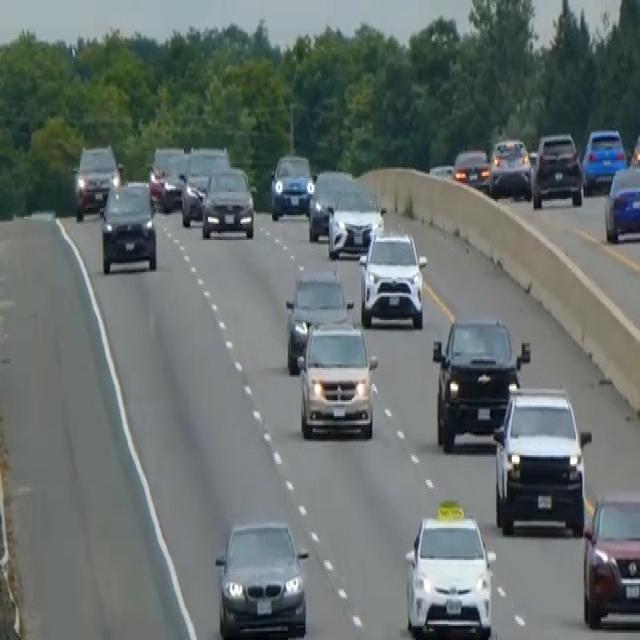car: (491, 382, 590, 535), (431, 311, 530, 452), (403, 498, 495, 638), (213, 516, 309, 638), (581, 489, 639, 629), (284, 267, 354, 373), (357, 226, 427, 329), (99, 178, 157, 274), (326, 180, 384, 260), (530, 130, 583, 208), (201, 164, 255, 240), (180, 146, 229, 226), (73, 140, 119, 218), (307, 167, 353, 242), (581, 124, 627, 192), (269, 151, 314, 219), (603, 160, 639, 244), (488, 135, 532, 199), (148, 144, 185, 210), (451, 144, 490, 192), (630, 126, 639, 172)
minivan: (295, 318, 379, 441)
